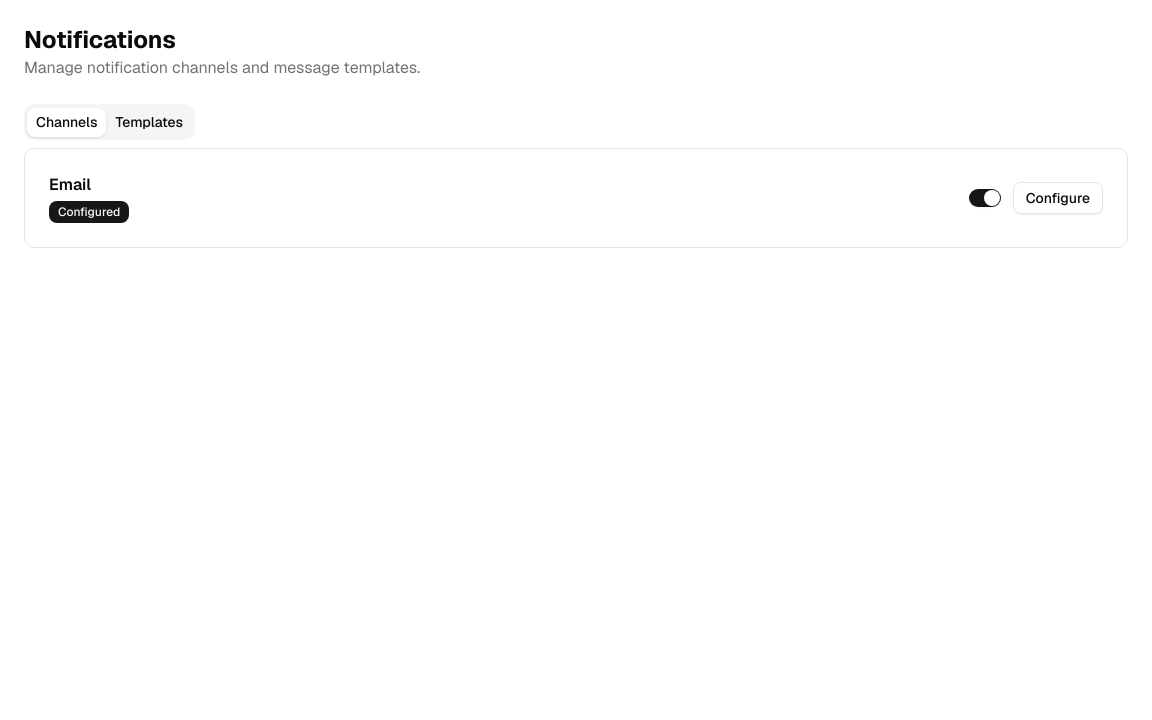
Test: NotificationsPage › opens channel configure dialog on Configure click
Click the button "Configure" at (1058, 198), box left=1013, top=182, right=1103, bottom=214
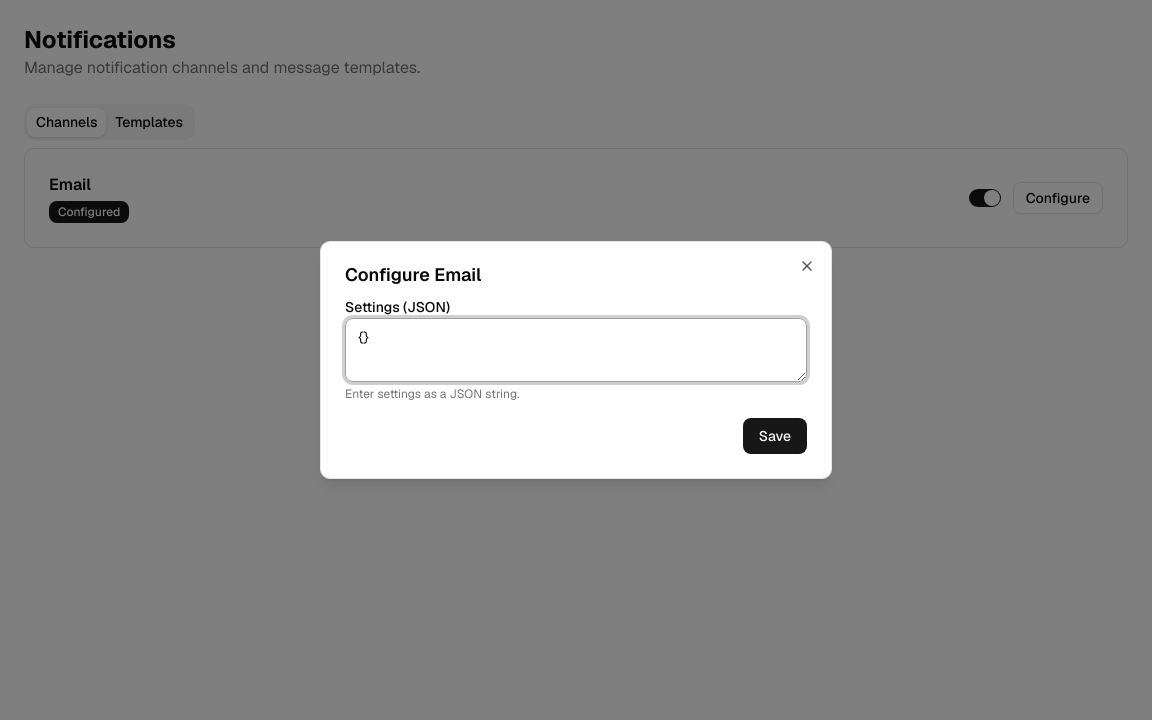
Result: the text "Settings (JSON)" is shown at left=345, top=298, right=450, bottom=316
